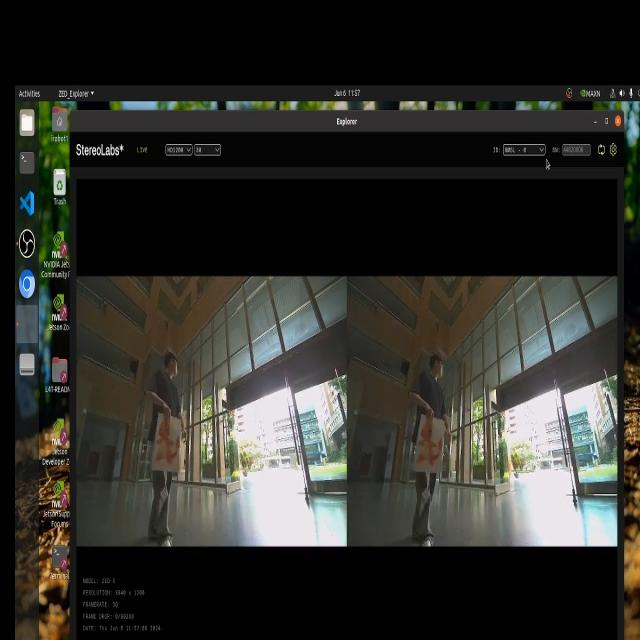red: (147, 423, 180, 474), (414, 412, 446, 462)
